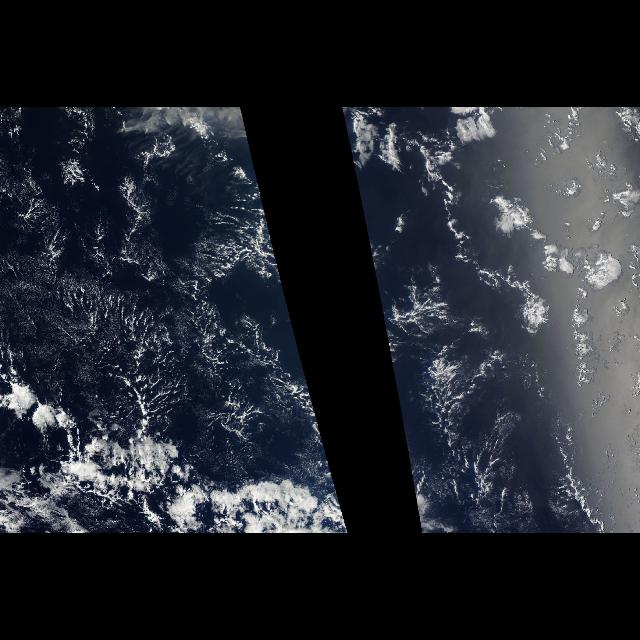Fish: (74, 306, 218, 504)
